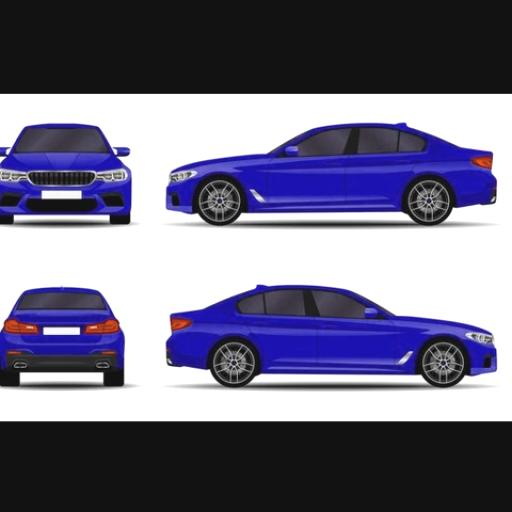sedan: (169, 285, 497, 386), (169, 124, 497, 224), (0, 124, 132, 223), (0, 289, 125, 386)
